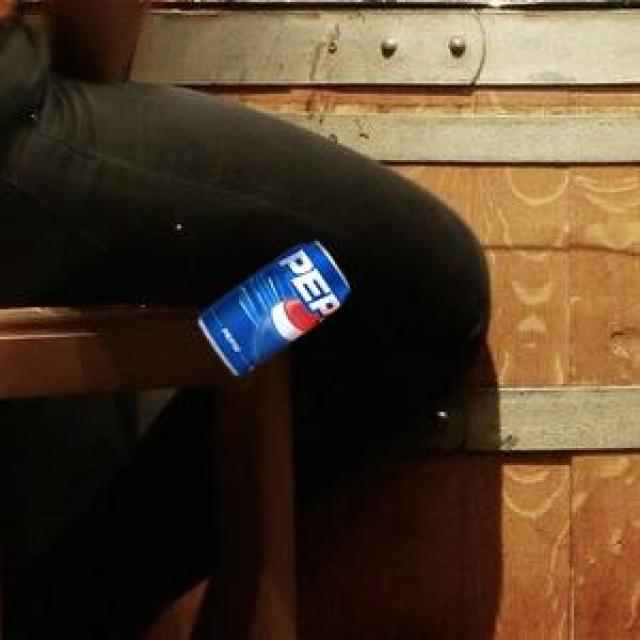logam: (197, 240, 347, 372)
